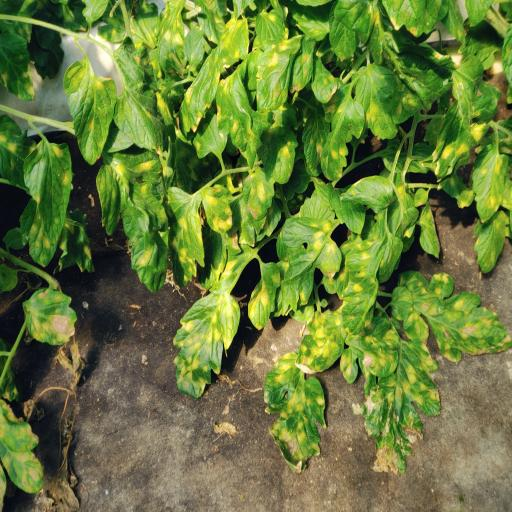Leaf Mold: (333, 0, 459, 114), (362, 338, 440, 474), (398, 269, 512, 362), (96, 149, 169, 293), (432, 54, 498, 182), (263, 351, 327, 475), (173, 291, 241, 400), (336, 227, 403, 337), (216, 48, 276, 170), (113, 35, 169, 159), (23, 138, 72, 268), (280, 217, 342, 316), (63, 61, 117, 165), (178, 44, 229, 140), (320, 79, 365, 181), (340, 308, 400, 384), (162, 186, 206, 287), (0, 398, 44, 494), (351, 63, 404, 140), (256, 34, 300, 113), (256, 102, 298, 184), (295, 309, 347, 375), (24, 288, 78, 346), (148, 0, 186, 80), (472, 142, 509, 223), (0, 114, 36, 188), (0, 28, 35, 102), (58, 207, 95, 274), (248, 262, 280, 330), (472, 210, 506, 274), (340, 175, 393, 214), (302, 108, 330, 173), (242, 167, 275, 220), (220, 11, 249, 68), (288, 35, 316, 93), (202, 184, 233, 234), (194, 0, 225, 45), (311, 57, 338, 104), (378, 236, 404, 284), (420, 202, 440, 260), (256, 10, 285, 44), (184, 26, 206, 68), (391, 285, 414, 322)
